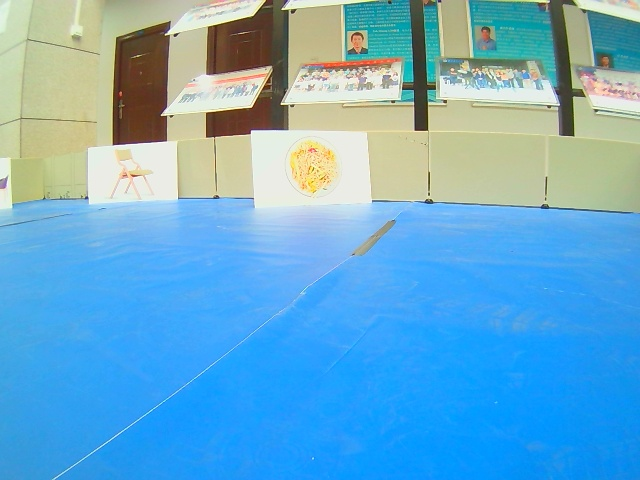food: (249, 129, 372, 212)
table: (88, 141, 179, 206)
